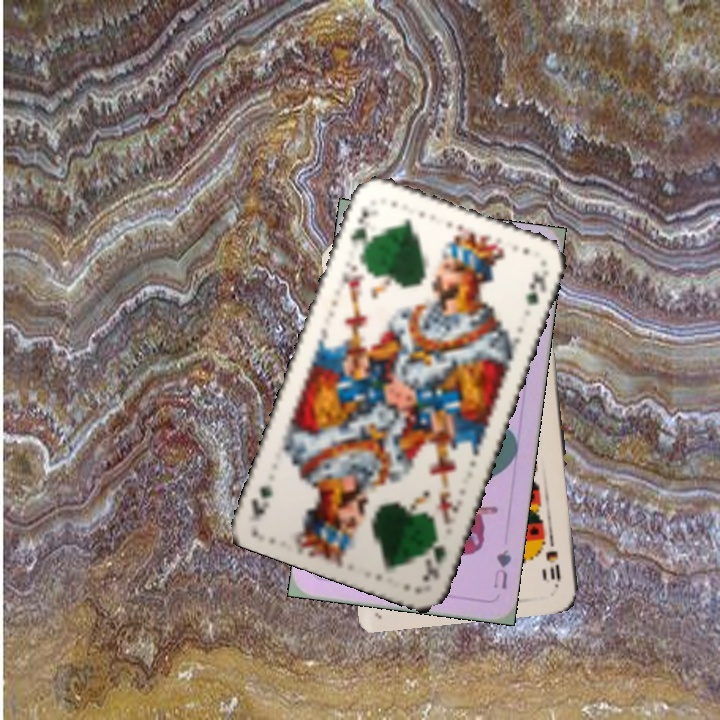GK: (417, 527, 450, 585), (346, 205, 372, 254)
GU: (489, 544, 514, 592)
S10: (543, 531, 563, 590)
